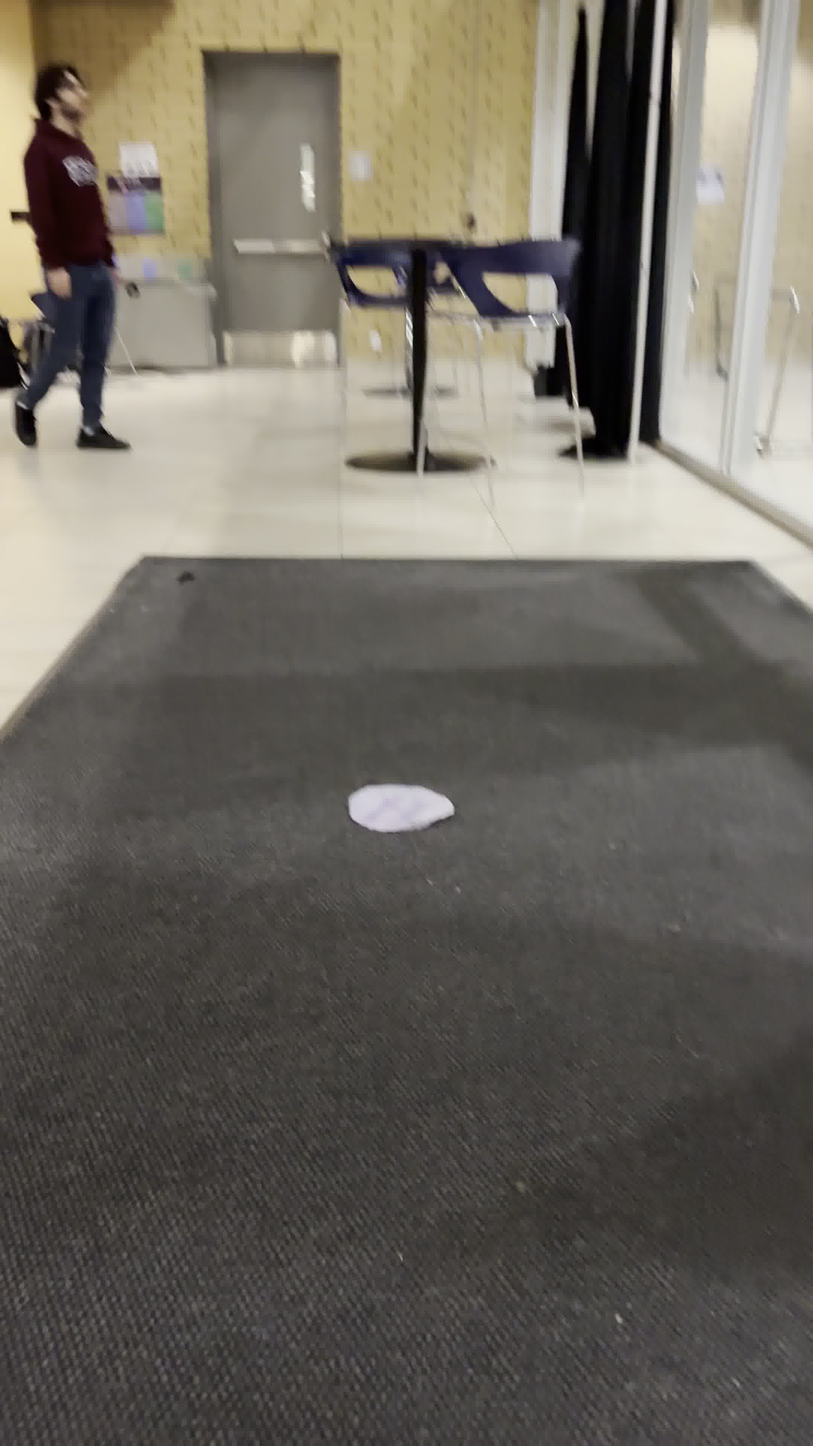Target: (345, 781, 456, 834)
